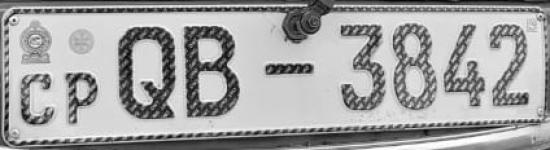-: (262, 56, 317, 80)
2: (488, 16, 536, 112)
3: (332, 18, 390, 117)
4: (442, 17, 488, 114)
8: (390, 19, 442, 116)
B: (180, 22, 251, 119)
C: (16, 69, 61, 131)
P: (62, 68, 104, 127)
Q: (114, 20, 180, 123)
